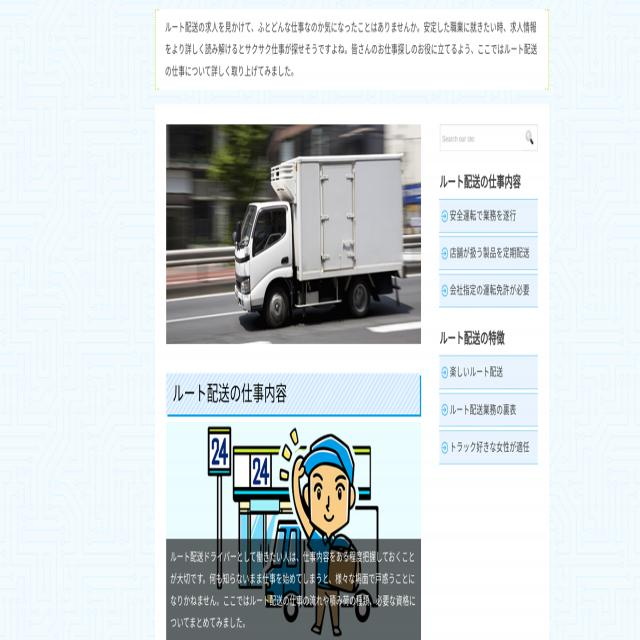button: (166, 372, 420, 640), (167, 125, 421, 344), (522, 124, 538, 150)
field: (440, 125, 522, 150)
